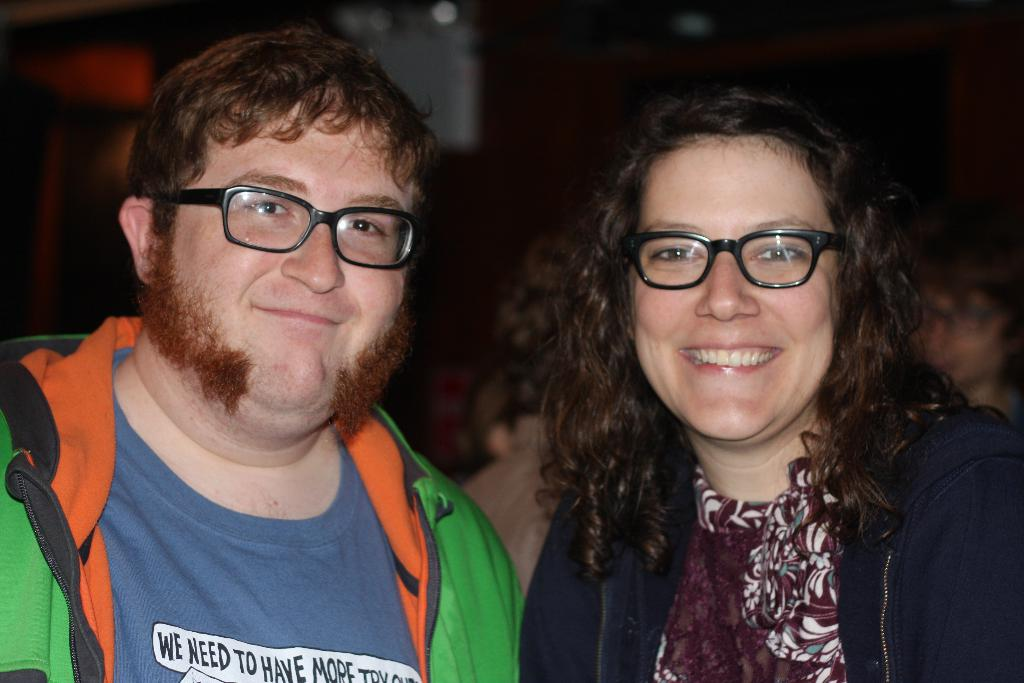Human-face: (172, 101, 404, 409), (634, 138, 831, 441)
